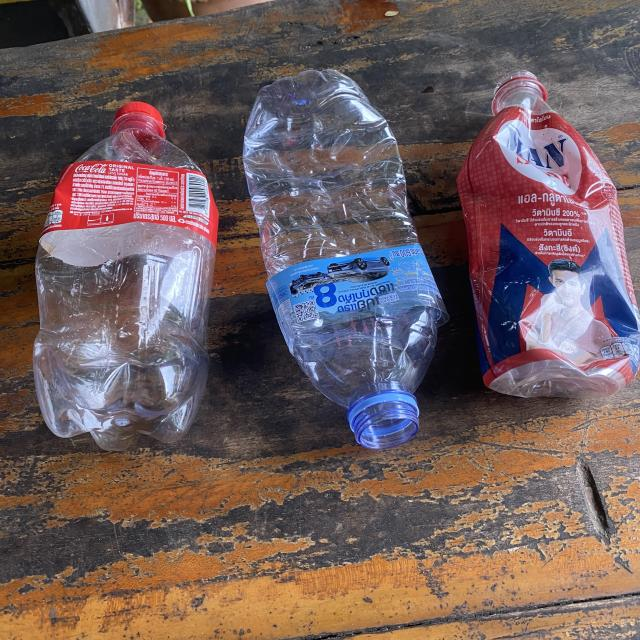plastik: (244, 70, 448, 449), (34, 101, 219, 451), (458, 70, 640, 399)
